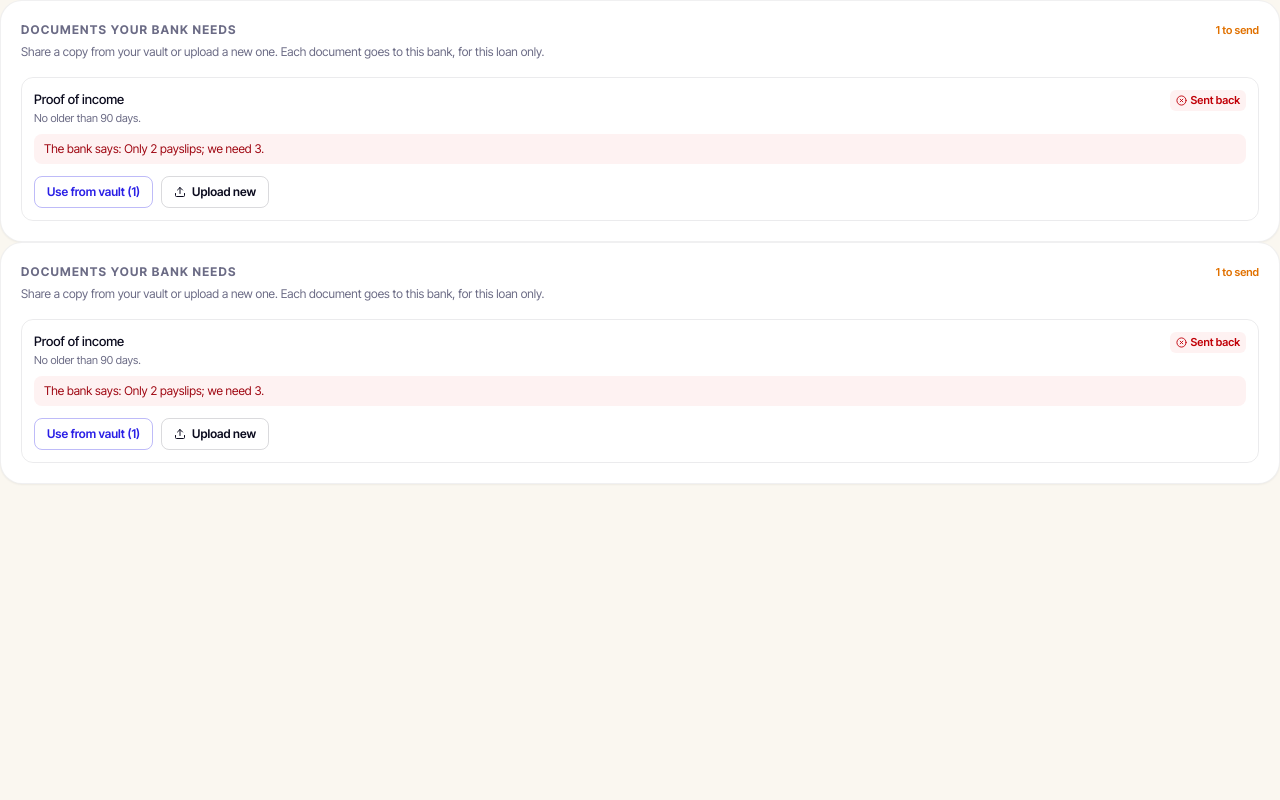
Scenario: BankDocuments › greys out a copy that's too old, with the reason
Click the 2nd button "Use from vault (1)": (94, 434) [34, 418, 153, 450]
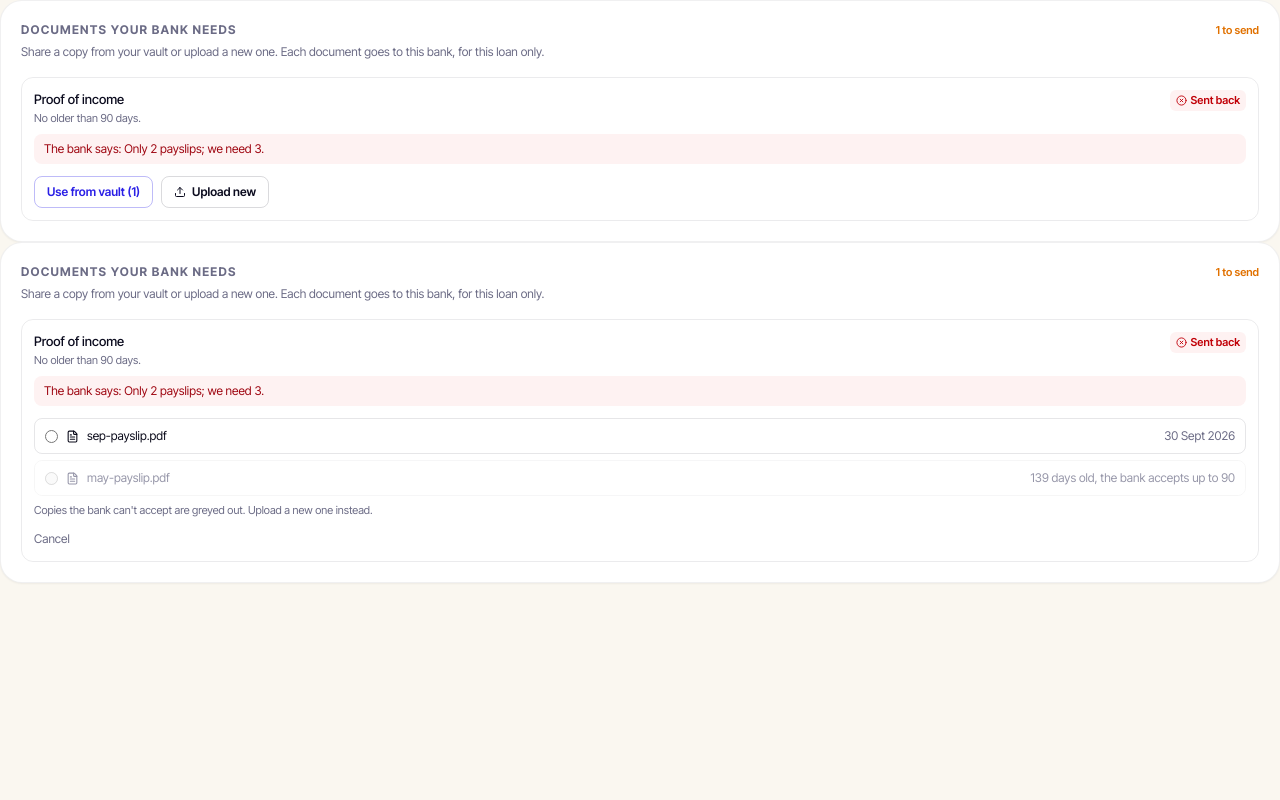
Check: the radio button labelled "sep-payslip.pdf 30 Sept 2026" is enabled, box [45, 430, 58, 442]
Check: the radio button labelled "may-payslip.pdf 139 days old, the bank accepts up to 90" is disabled, box [45, 472, 58, 484]
Check: the text "139 days old, the bank accepts up to 90" is shown, box [1031, 469, 1235, 487]
